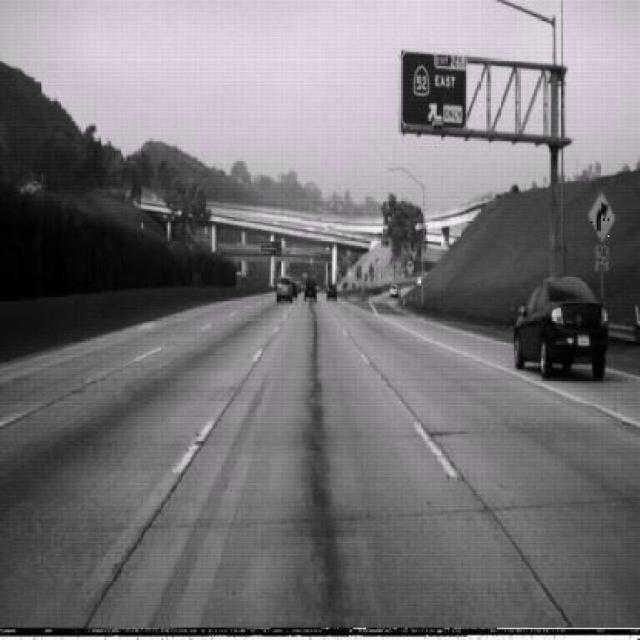curveRight: (588, 189, 615, 243)
